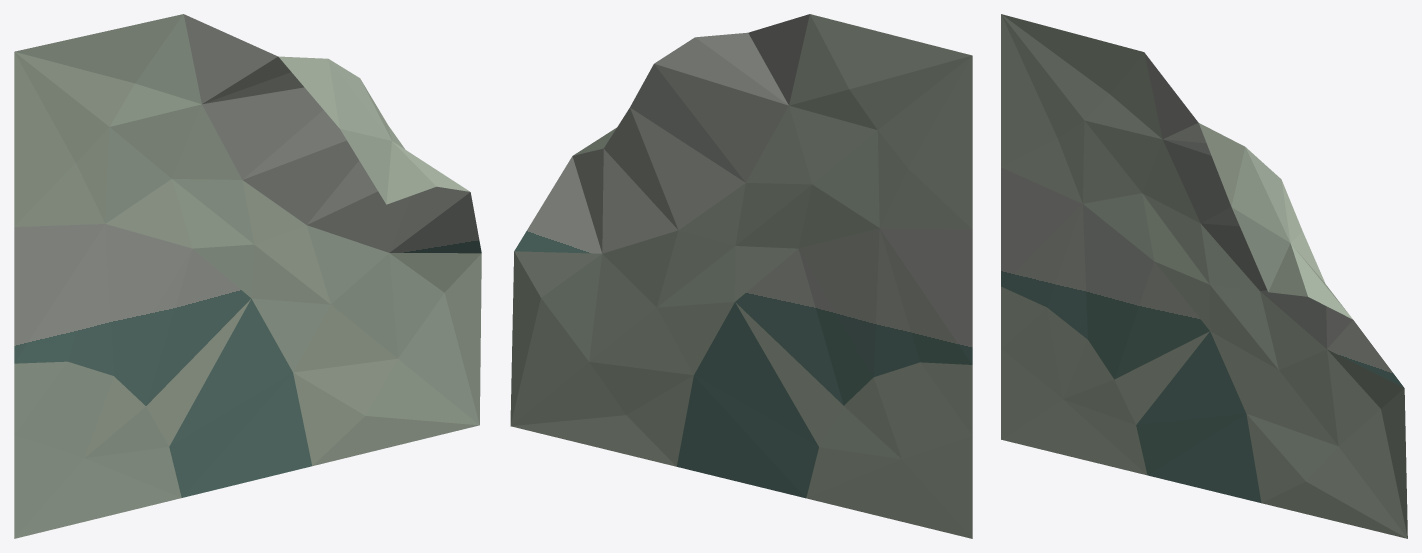
Rendered from ColoredWallpapper_04.fbx.
The picture shows the model from 3 angles, left to right: view 1: azimuth 30°, elevation 25°; view 2: azimuth 150°, elevation 25°; view 3: azimuth 330°, elevation 25°; orthographic projection. The views are drawn at different scales.
Visible parts, largest first — view 1: ColoredWallpapper_04; view 2: ColoredWallpapper_04; view 3: ColoredWallpapper_04.
Part boxes in pixels (x1,y1,x2,y2): ColoredWallpapper_04: (14,14,481,538); ColoredWallpapper_04: (510,14,972,538); ColoredWallpapper_04: (1001,14,1407,538).
Size of the model in its own units: 100 by 100 by 14.02.
Materials: 1 (1 with a texture image).
